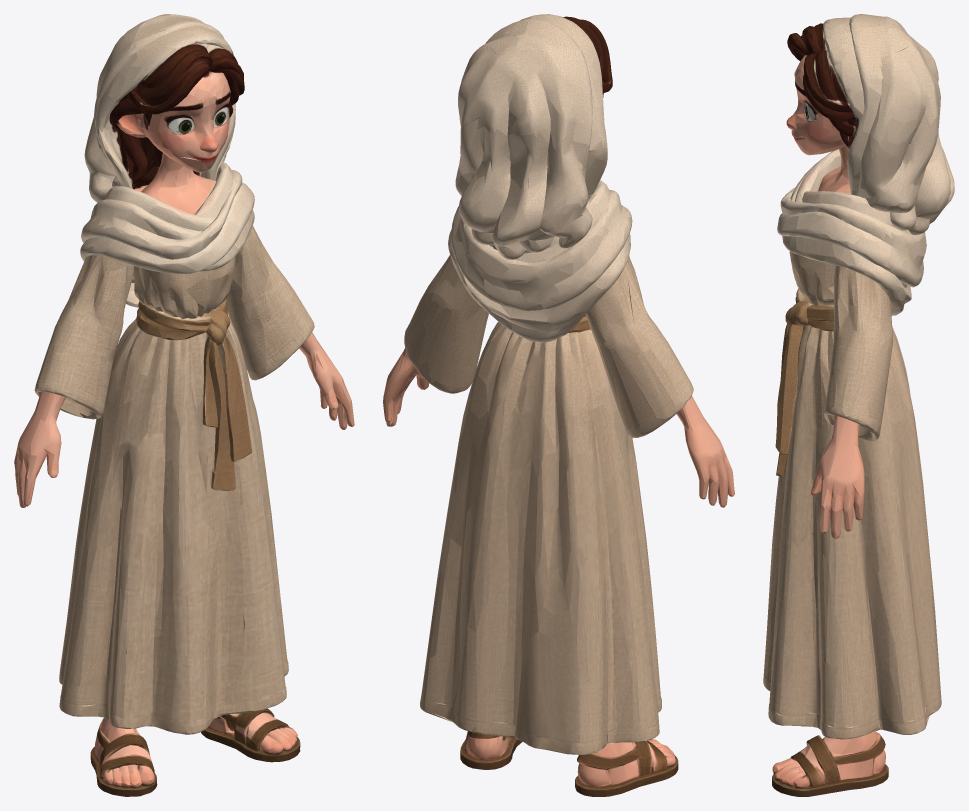
The model's file is abi_bethlehem.fbx.
3 views of the same model, side by side, from view 1: azimuth 30°, elevation 25°; view 2: azimuth 150°, elevation 25°; view 3: azimuth 270°, elevation 25° (orthographic). The views are drawn at different scales.
Parts seen in each view (by area): view 1: abi_bethlehem; view 2: abi_bethlehem; view 3: abi_bethlehem.
Part boxes in pixels (x1,y1,x2,y2): abi_bethlehem: [14, 14, 354, 796]; abi_bethlehem: [383, 14, 734, 796]; abi_bethlehem: [763, 14, 954, 796].
Size of the model in its own units: 0.7876 by 1.65 by 0.3915.
1 material, 1 textured.
